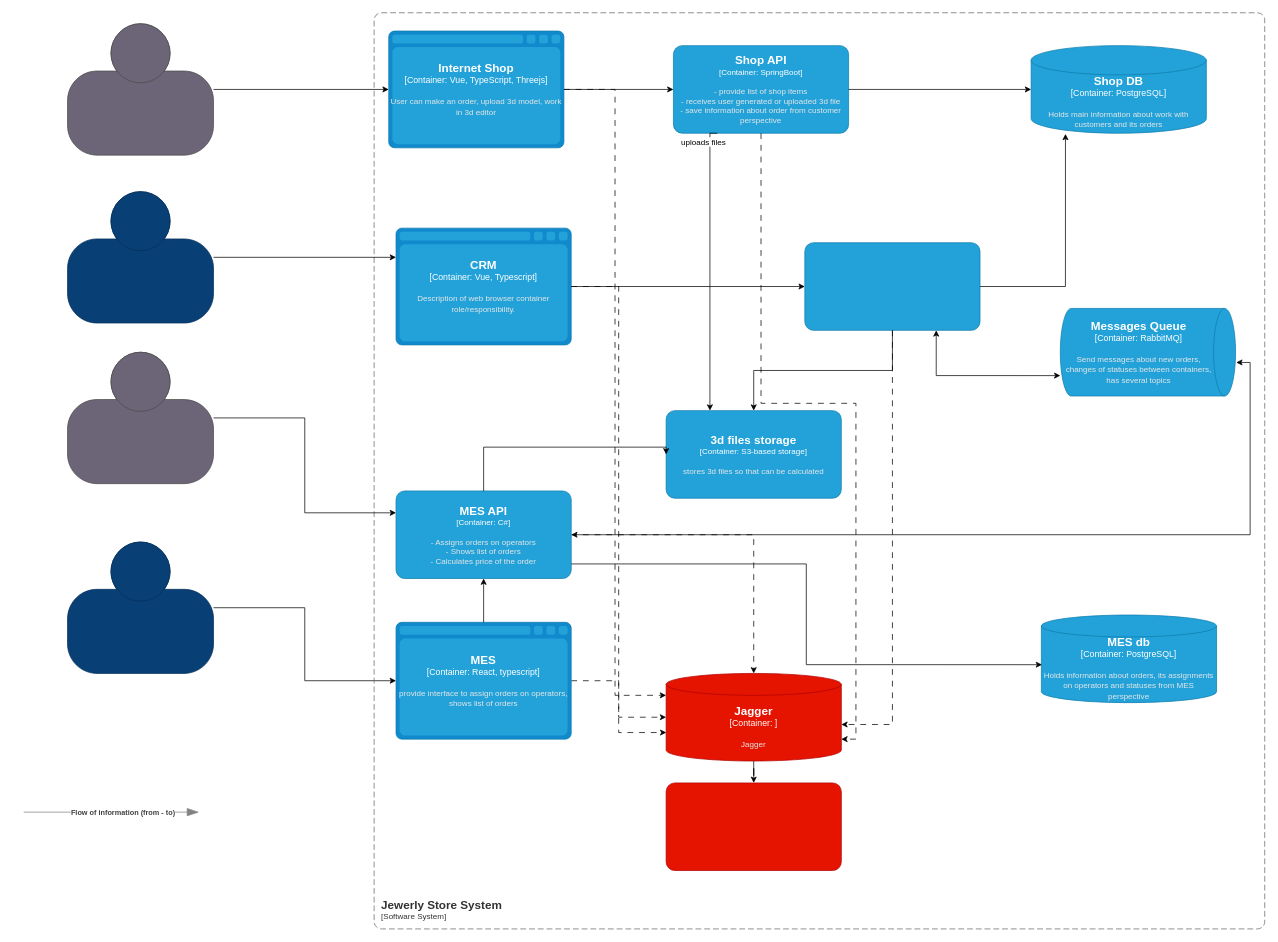
The diagram is 1278 pixels wide and 942 high, and some of its shapes have lost their labels. Each missing label, with the centre of its shape:
"API user [Person] Description of external person." goes at (140,417).
"CRM API [Container: SpringBoot] Description of container role/responsibility." goes at (892,286).
"Customer [Person] Description of external person." goes at (140,89).
"Jagger UI [: ] Jagger UI" goes at (753,826).
"Operator [Person] Takes order in work, manufactures jewerly" goes at (140,607).
"Seller [Person] Operates with order, confirms manufacturing for the user" goes at (140,257).
